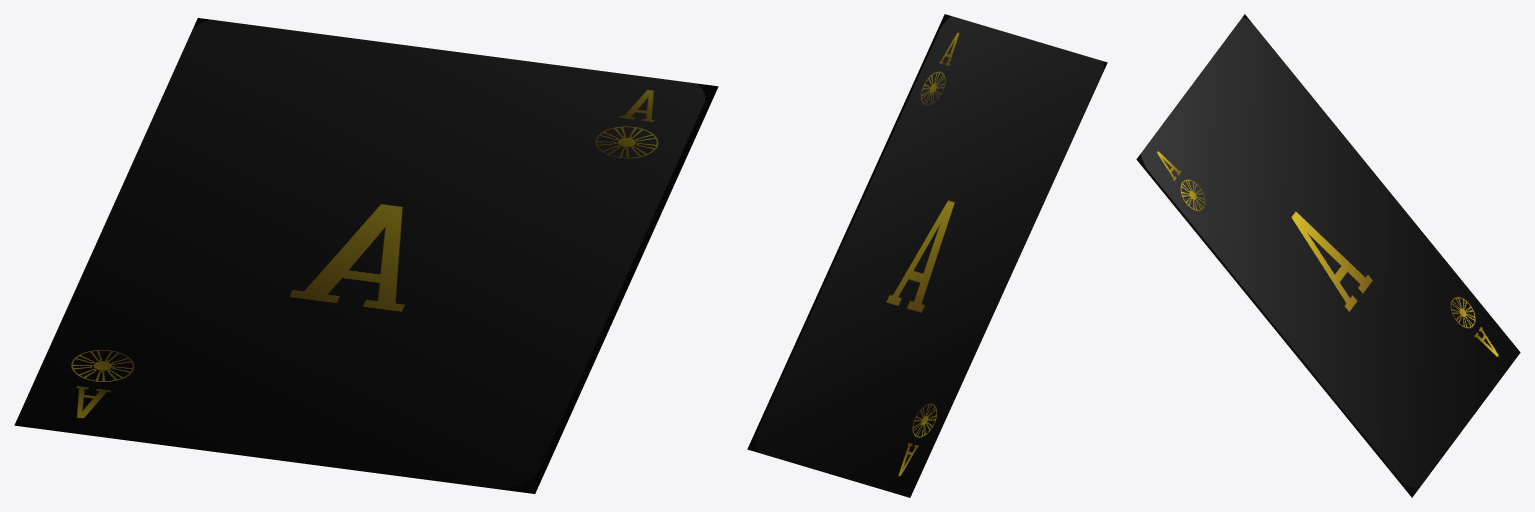
File: card.glb
3 views of the same model, side by side, from view 1: azimuth 30°, elevation 25°; view 2: azimuth 150°, elevation 25°; view 3: azimuth 270°, elevation 25° (orthographic). The views are drawn at different scales.
Visible parts, largest first — view 1: Plane.017; view 2: Plane.017; view 3: Plane.017.
Part boxes in pixels (x1=…): Plane.017: x1=14, y1=18, x2=718, y2=493; Plane.017: x1=747, y1=14, x2=1107, y2=497; Plane.017: x1=1136, y1=14, x2=1520, y2=497.
Bounding box in the file's own units: 0.5796 × 0.7922 × 0.7646.
Materials: 1 (1 with a texture image).
